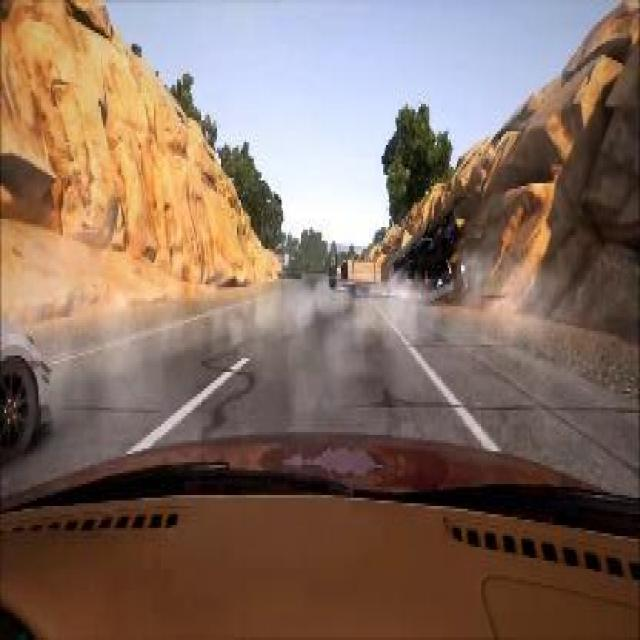accident: (389, 202, 465, 309)
